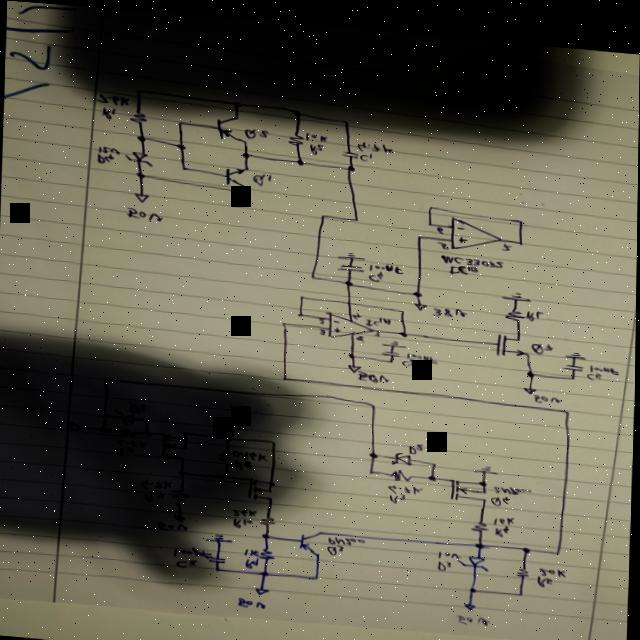capacitor: (336, 257, 364, 266), (380, 341, 402, 352), (203, 551, 227, 560), (560, 354, 584, 362), (339, 144, 358, 152)
crossover: (344, 294, 354, 298)
diode: (456, 546, 490, 563), (122, 147, 152, 164), (113, 406, 136, 422), (391, 444, 412, 459)
ground: (499, 281, 531, 293), (203, 528, 233, 539), (472, 456, 499, 466), (335, 245, 365, 253), (381, 333, 405, 341), (564, 342, 586, 349), (220, 417, 239, 424)
junction: (133, 168, 146, 177), (228, 96, 242, 103), (133, 132, 146, 139), (341, 274, 354, 281), (396, 323, 408, 330), (342, 159, 354, 166), (295, 289, 307, 296), (473, 534, 485, 541), (259, 565, 270, 572), (174, 140, 186, 146), (266, 475, 278, 481), (411, 283, 421, 290), (222, 430, 232, 437), (290, 103, 300, 110), (520, 537, 530, 544), (293, 153, 303, 160), (239, 147, 249, 154), (218, 469, 228, 476), (413, 226, 423, 233), (260, 527, 270, 534), (427, 467, 437, 474), (278, 315, 288, 322), (142, 427, 152, 434), (424, 213, 434, 220), (98, 425, 108, 432), (101, 374, 111, 381), (367, 446, 378, 452), (525, 362, 535, 368), (467, 579, 477, 585), (177, 466, 187, 472), (178, 161, 188, 167), (294, 306, 304, 312), (99, 411, 109, 417), (366, 396, 376, 402), (347, 346, 357, 352), (516, 209, 524, 216), (311, 569, 320, 575), (514, 231, 523, 237), (132, 86, 142, 91), (425, 197, 433, 203), (174, 117, 183, 122), (516, 583, 525, 588), (318, 208, 327, 213), (307, 269, 316, 274), (238, 184, 247, 189), (180, 427, 189, 432), (386, 352, 395, 357), (429, 454, 437, 459), (553, 541, 561, 546), (280, 371, 288, 376), (562, 400, 570, 405), (213, 563, 221, 568), (397, 302, 405, 307), (479, 473, 487, 478), (351, 211, 359, 215), (268, 435, 276, 439), (367, 464, 375, 468), (340, 114, 348, 118), (568, 366, 576, 370), (179, 432, 187, 436), (142, 415, 150, 419)
resistor: (384, 461, 412, 475), (168, 484, 190, 499), (127, 107, 147, 122), (285, 128, 303, 141), (504, 301, 524, 312), (260, 509, 275, 522), (472, 511, 487, 524), (217, 446, 231, 459), (262, 542, 276, 555), (516, 557, 530, 569), (117, 425, 135, 434)
source: (132, 190, 148, 201), (253, 582, 271, 591), (346, 358, 362, 367), (462, 595, 477, 604), (172, 510, 187, 519), (413, 295, 427, 304), (522, 378, 536, 384)
terminal: (68, 419, 82, 431)
text: (436, 247, 504, 260), (123, 204, 163, 220), (170, 541, 211, 556), (324, 528, 365, 542), (94, 90, 130, 105), (353, 364, 390, 378), (229, 444, 268, 457), (138, 474, 173, 488), (356, 134, 392, 147), (455, 606, 491, 619), (430, 298, 466, 311), (387, 475, 423, 488), (490, 476, 530, 487), (367, 256, 403, 268), (360, 308, 391, 321), (154, 518, 189, 529), (406, 345, 438, 357), (448, 256, 482, 267), (236, 593, 267, 605), (588, 354, 618, 365), (537, 557, 567, 568), (529, 333, 554, 346), (241, 123, 268, 135), (113, 436, 148, 445), (531, 385, 561, 395), (250, 168, 272, 181), (142, 487, 164, 500), (231, 513, 256, 524), (99, 103, 117, 118), (176, 555, 200, 566), (233, 455, 254, 467), (95, 143, 120, 153), (489, 487, 511, 498), (303, 127, 327, 137), (231, 504, 257, 513), (491, 507, 514, 517), (407, 435, 424, 448), (524, 301, 544, 312), (94, 151, 114, 162), (127, 399, 147, 410), (114, 443, 135, 453), (536, 566, 553, 578), (326, 540, 344, 551), (437, 553, 453, 565), (307, 137, 323, 149), (367, 264, 383, 276), (494, 517, 509, 529), (388, 488, 406, 498), (244, 543, 261, 553), (245, 553, 259, 565), (435, 544, 459, 551), (401, 351, 419, 360), (585, 362, 602, 371), (434, 233, 449, 242), (358, 146, 371, 155), (499, 234, 513, 242), (434, 218, 444, 227), (350, 305, 360, 314), (354, 328, 364, 335), (317, 312, 325, 318), (318, 323, 325, 329), (373, 324, 380, 330)
transistor: (213, 110, 247, 140), (449, 471, 487, 494), (158, 430, 189, 458), (495, 325, 529, 350), (222, 160, 250, 186), (245, 474, 277, 496), (297, 525, 324, 551)
